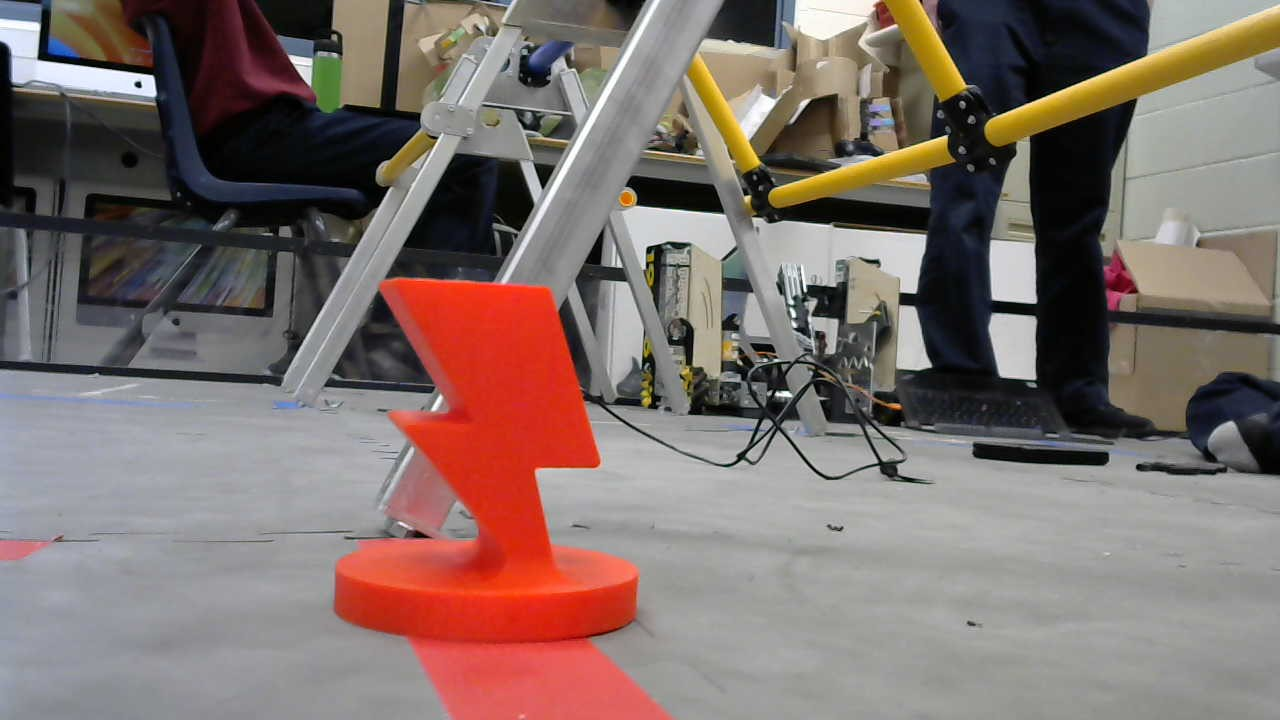redobject: (328, 274, 644, 650)
